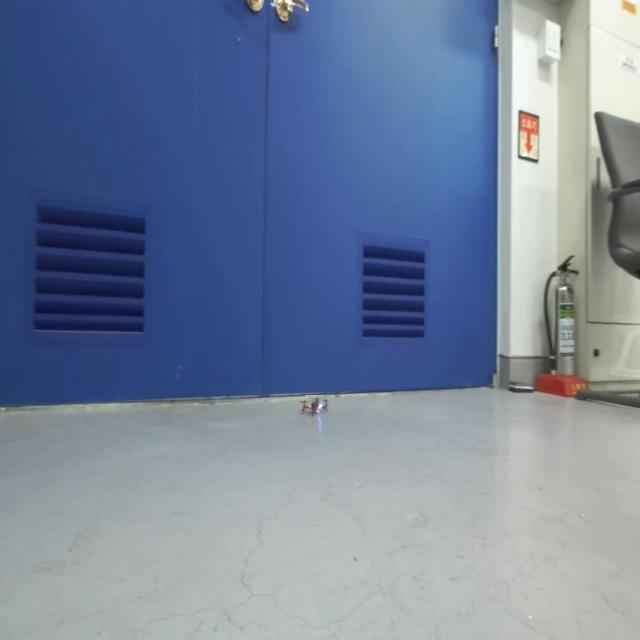crazyflie: (299, 395, 331, 423)
